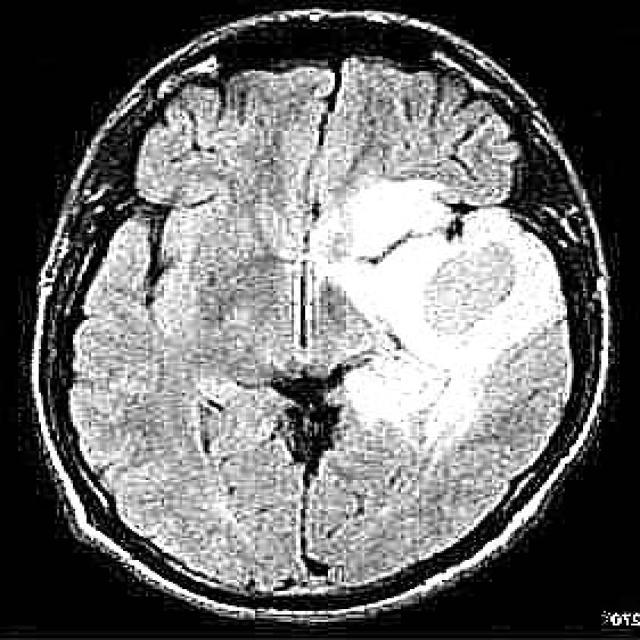Tumor-Cell: (347, 195, 548, 356)
